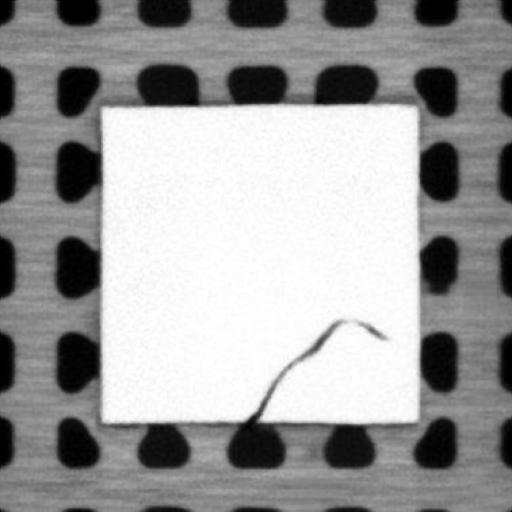DIE_INK: (246, 314, 388, 420)
